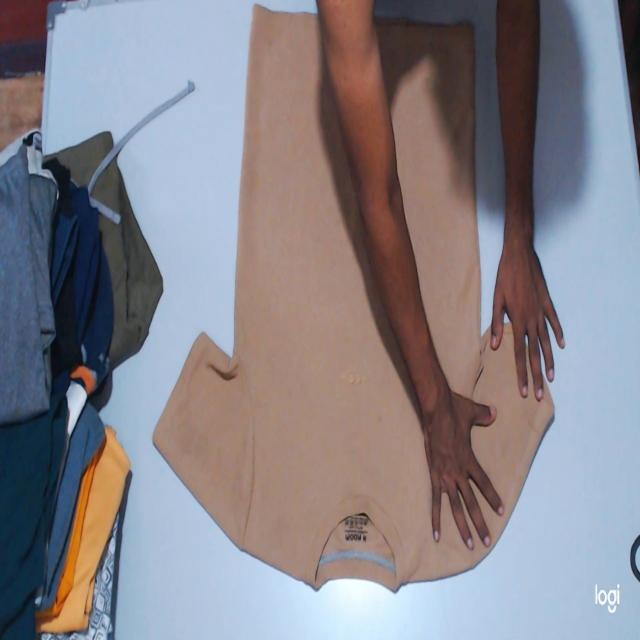new-garment: (154, 5, 491, 590), (378, 21, 553, 542)
